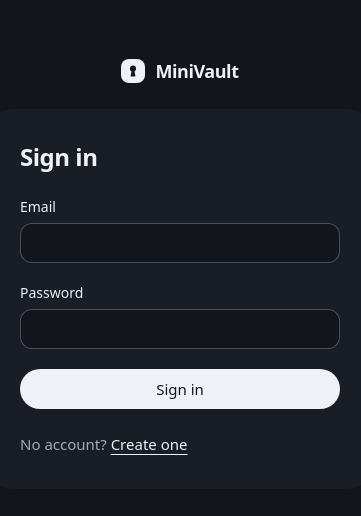
Test: explains an unreachable server
Type "user@example.test" into the field labelled "Email" at (180, 243), box [20,223,340,263]
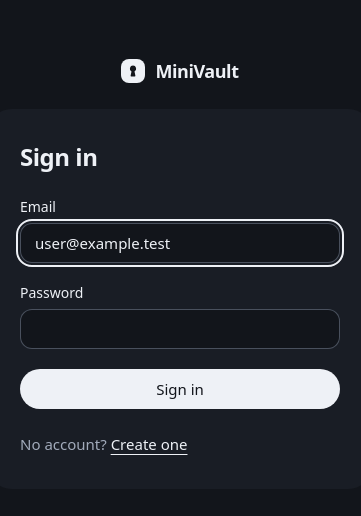
Type "correct horse battery" into the password field labelled "Password" at (180, 329), box [20,309,340,349]
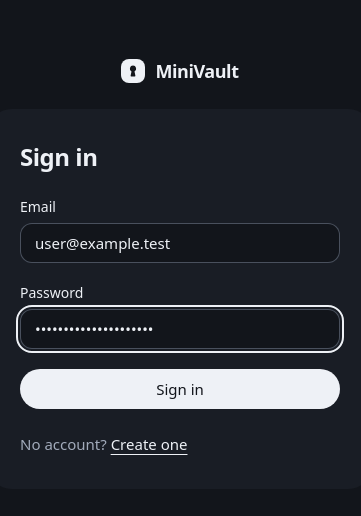
Click the button "Sign in" at (180, 389), box [20,369,340,409]
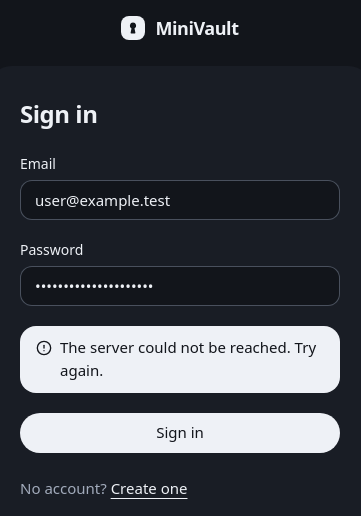
Check: the message reads "The server could not be reached. Try again.", box [60,337,316,380]
